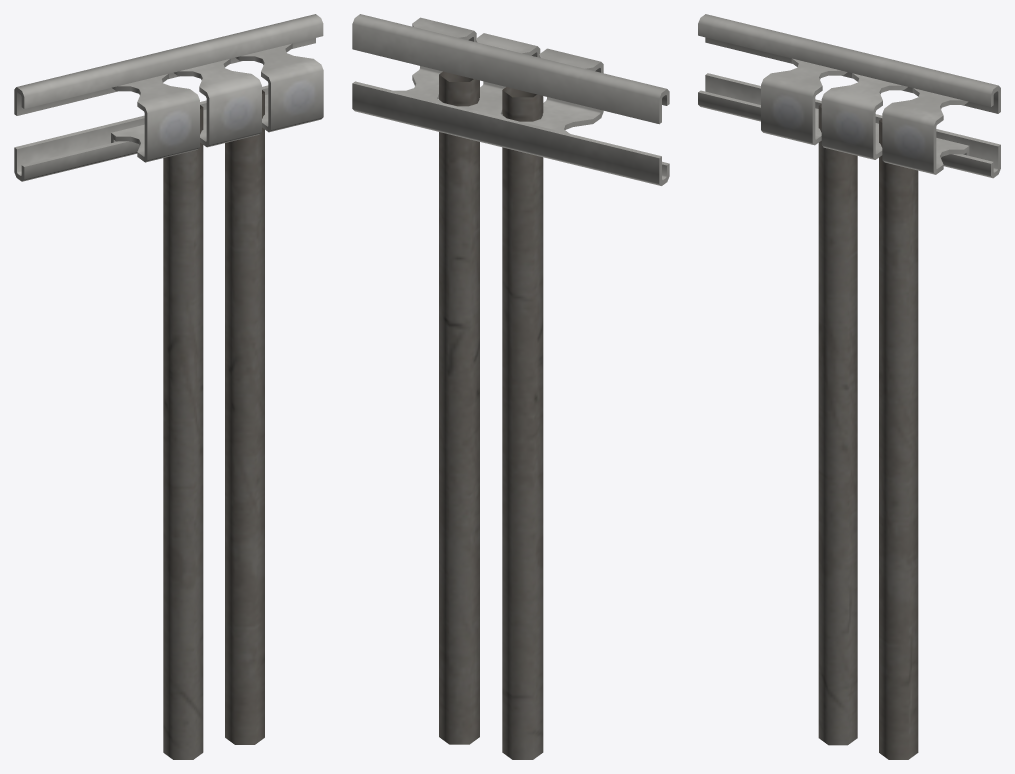
Rendered from cable_cable_double_alt_short.fbx.
The picture shows the model from 3 angles, left to right: view 1: azimuth 30°, elevation 25°; view 2: azimuth 150°, elevation 25°; view 3: azimuth 330°, elevation 25°; orthographic projection. The views are drawn at different scales.
Parts seen in each view (by area): view 1: modular_electric_cables__cable_double_alt_short; view 2: modular_electric_cables__cable_double_alt_short; view 3: modular_electric_cables__cable_double_alt_short.
Part boxes in pixels (box(x1,y1,x2,y2)): modular_electric_cables__cable_double_alt_short: box(14, 14, 323, 759); modular_electric_cables__cable_double_alt_short: box(352, 14, 669, 759); modular_electric_cables__cable_double_alt_short: box(698, 14, 1000, 759).
Size of the model in its own units: 0.097 by 0.2141 by 0.0221.
